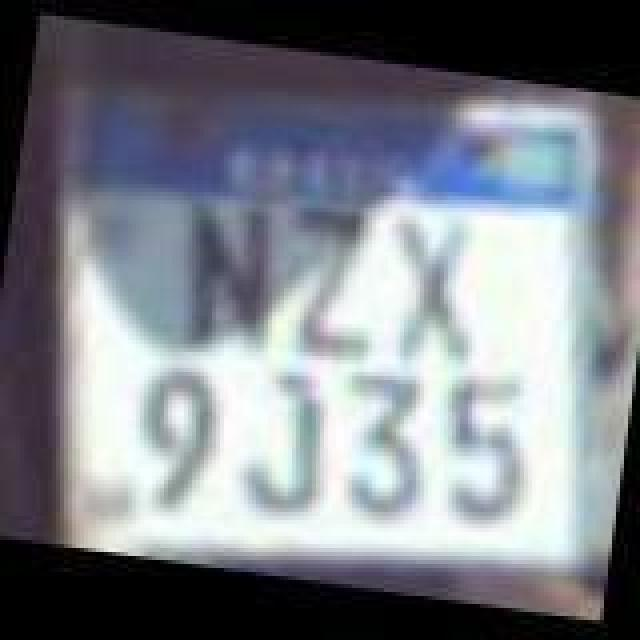3: (330, 368, 438, 528)
5: (434, 368, 542, 528)
9: (126, 362, 226, 518)
J: (230, 364, 346, 524)
N: (178, 190, 286, 354)
X: (374, 204, 490, 372)
Z: (268, 198, 388, 362)
